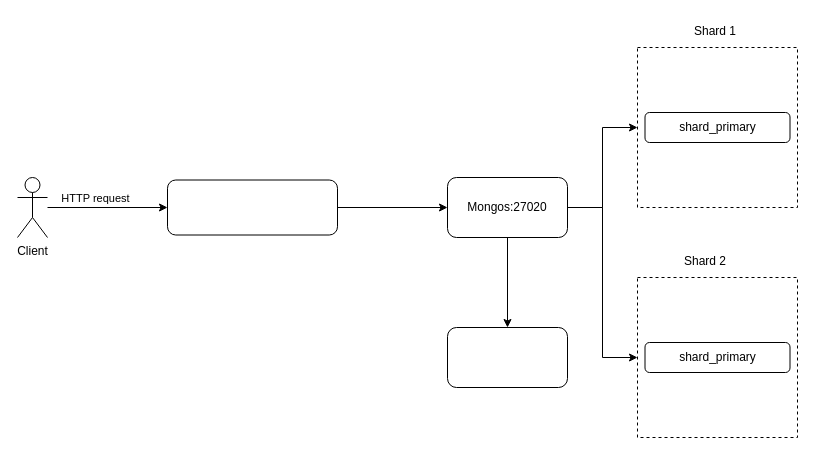
Image size: 815x455. Some labels were removed from this diagram. Here are the shapes that lost their labels. From the top down, the centre of each, then its label:
[252,207]: pymongo-api :8080
[507,357]: configSrv :27017
